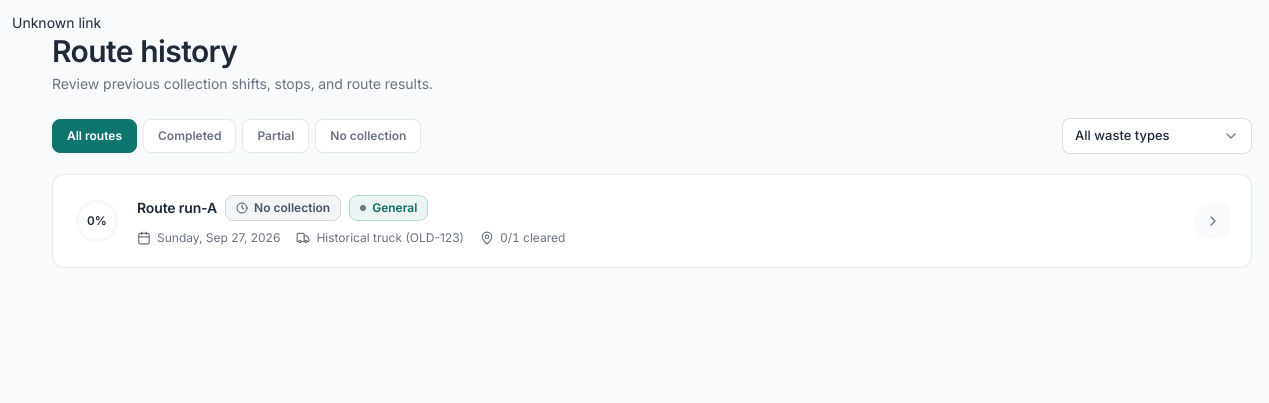
Test: uses accessible route buttons and honest duration without unsupported counts
Click the button that starts with "Route run-A" at (97, 220), box [52,174,1252,268]
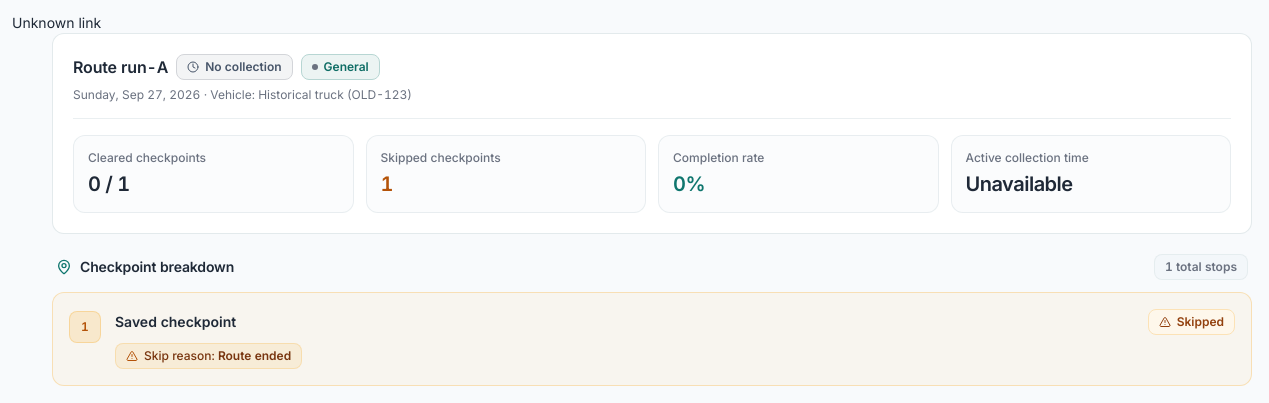
Expected: the text "Active collection time" is shown, [966,150,1089,165]
Expected: the text "Unavailable" is shown, [966,172,1073,196]
